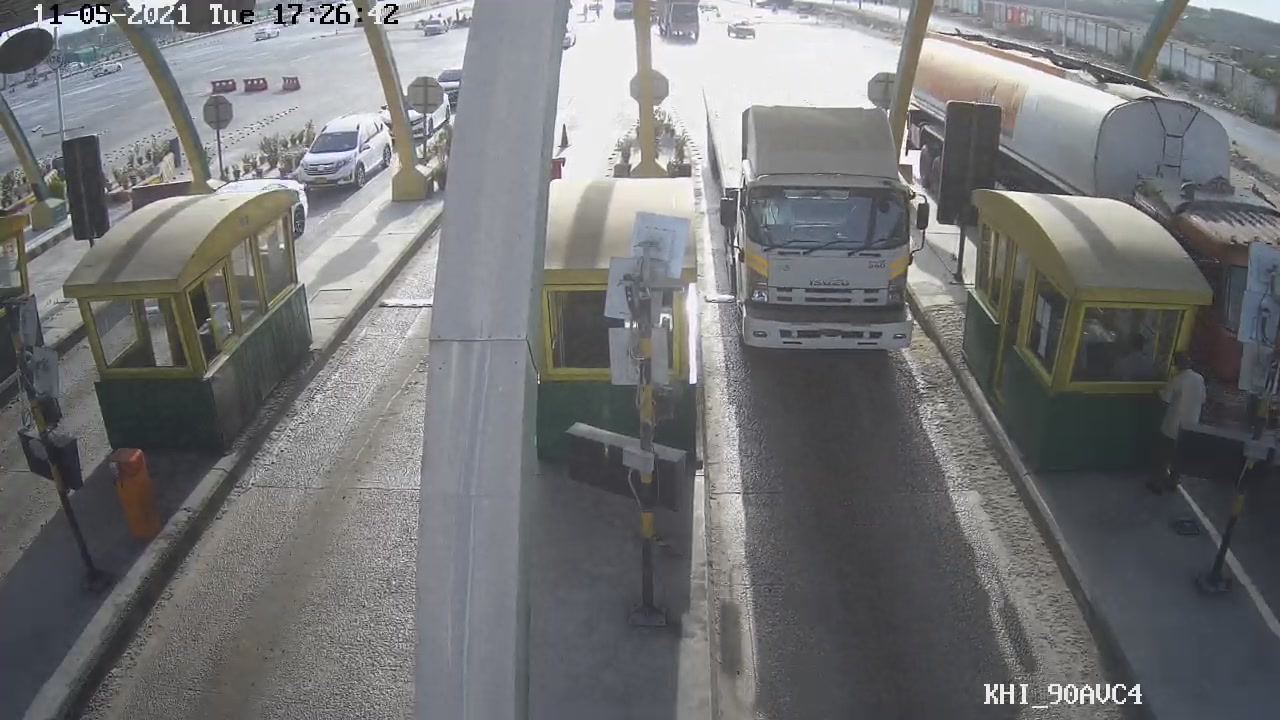F6: (697, 97, 948, 358)
